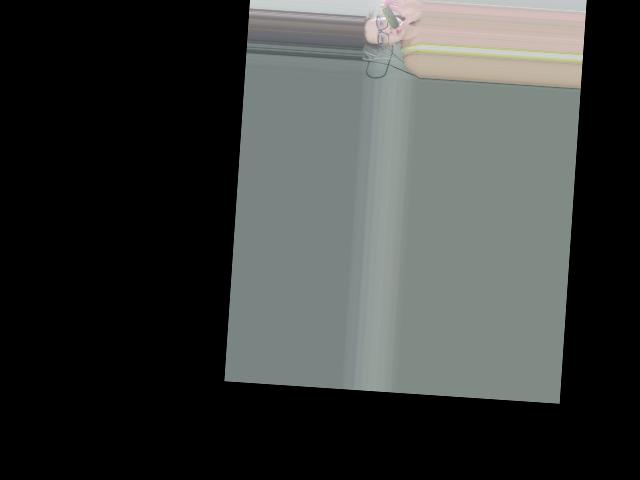cucumber: (380, 6, 400, 29)
